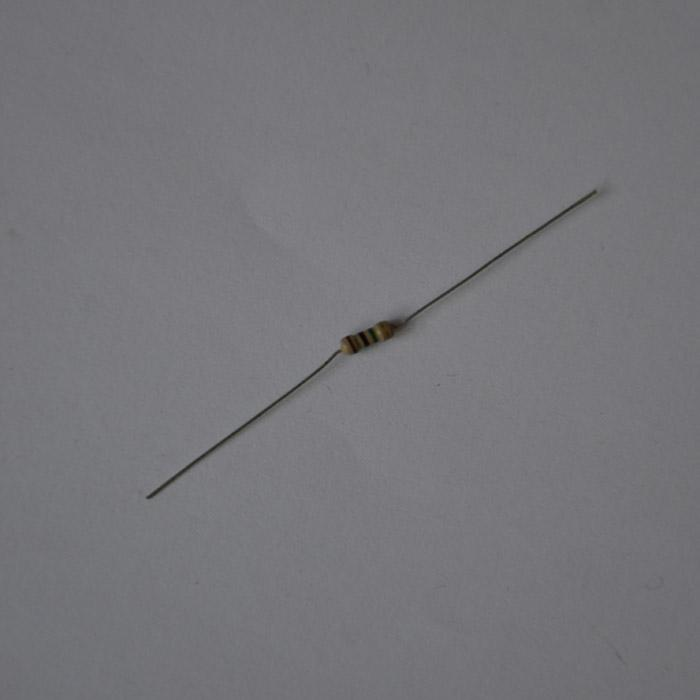resistor: (338, 318, 398, 355)
